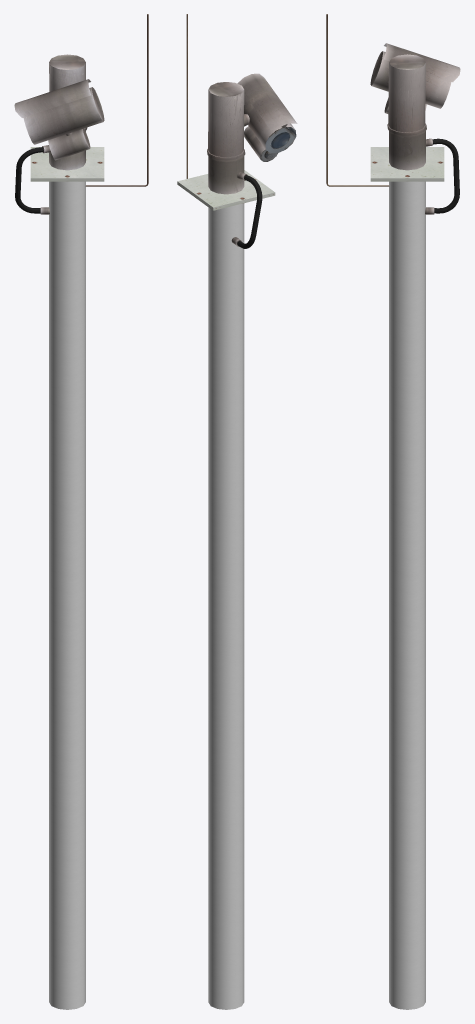
3 renders of one model, left to right at view 1: azimuth 90°, elevation 25°; view 2: azimuth 210°, elevation 25°; view 3: azimuth 270°, elevation 25°, orthographic. The views are drawn at different scales.
Visible parts, largest first — view 1: 524050.001; view 2: 524050.001; view 3: 524050.001.
Part boxes in pixels (x1,y1,x2,y2): 524050.001: (14,14,148,1009); 524050.001: (177,14,297,1009); 524050.001: (326,14,460,1009).
Size of the model in its own units: 0.2652 by 2.95 by 0.3633.
7 materials, 7 textured.
